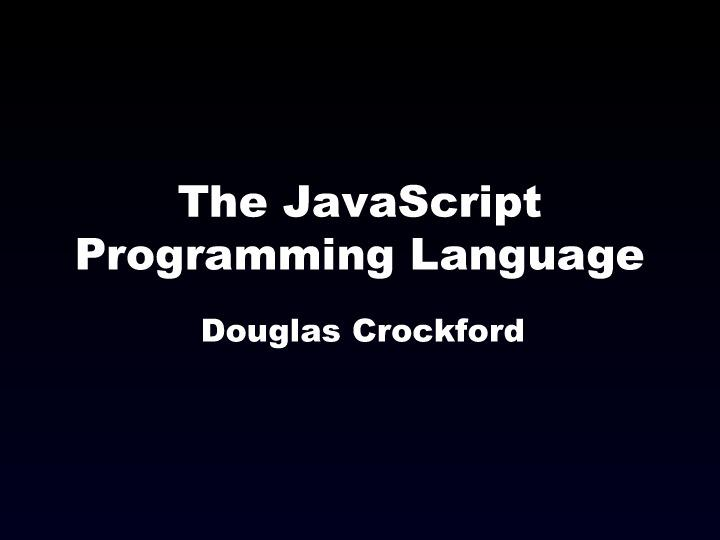title: (50, 162, 655, 351)
